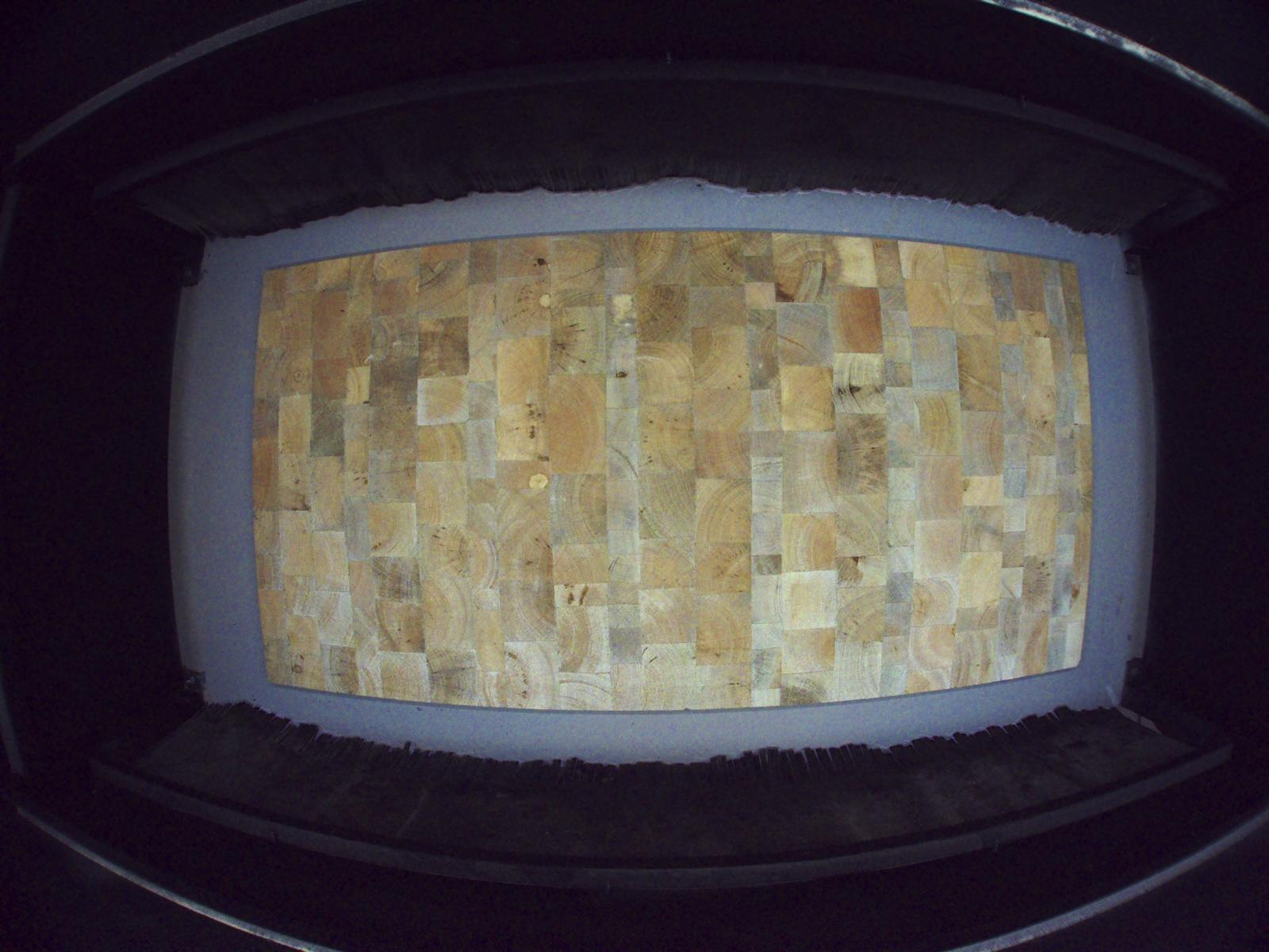sheck_ecuatoriano: (847, 355, 869, 413), (837, 385, 850, 413)
